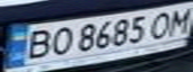5: (127, 12, 154, 44)
6: (93, 18, 115, 51)
8: (109, 16, 133, 48), (75, 20, 96, 53)
B: (18, 27, 54, 61)
M: (163, 4, 193, 36)
O: (45, 25, 75, 57), (145, 9, 175, 39)
